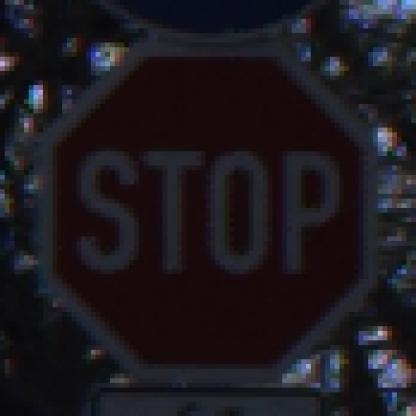stop: (34, 28, 389, 361)
